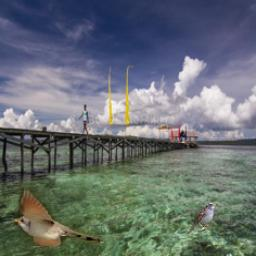Cuckoo: (14, 188, 105, 246)
Sparrow: (190, 203, 218, 233)
